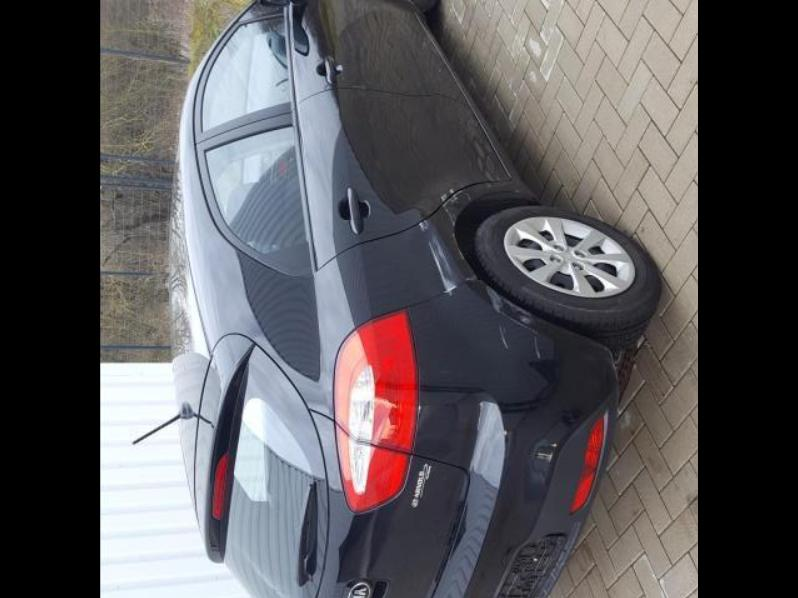Scratch: (483, 286, 535, 322), (426, 234, 457, 291), (440, 188, 472, 226), (501, 315, 542, 332), (494, 318, 511, 354), (449, 229, 465, 262), (532, 336, 541, 359), (441, 286, 454, 297), (418, 219, 429, 231), (463, 273, 477, 280), (439, 192, 447, 204), (449, 185, 457, 193)
